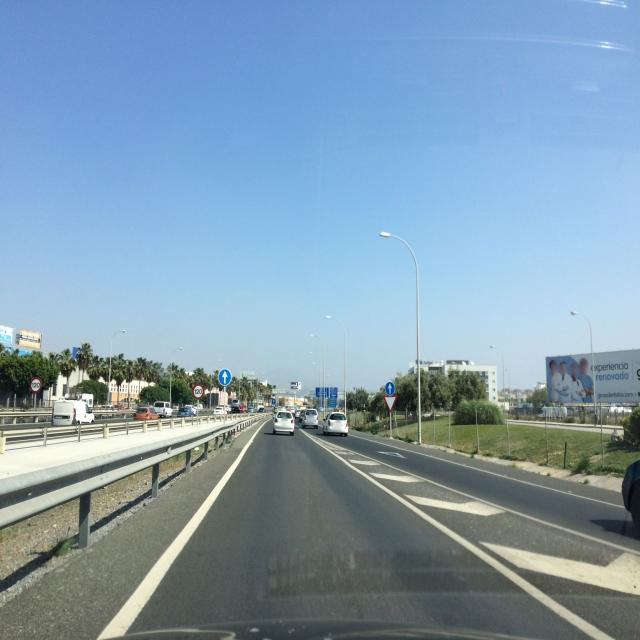car: (621, 416, 640, 546), (52, 399, 95, 427), (322, 412, 348, 436), (272, 410, 295, 436), (154, 400, 176, 418), (135, 405, 160, 420), (302, 409, 319, 430), (213, 405, 227, 419), (178, 406, 196, 416), (231, 399, 243, 410), (247, 405, 256, 414), (257, 405, 265, 413)
